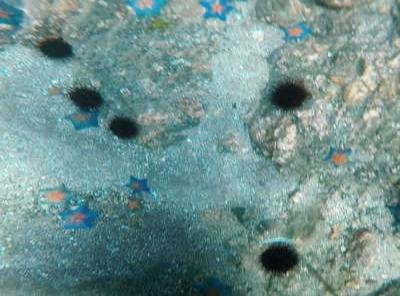urchin: (258, 240, 302, 276), (268, 80, 312, 111), (68, 84, 105, 112), (38, 35, 76, 61), (107, 114, 142, 141)
